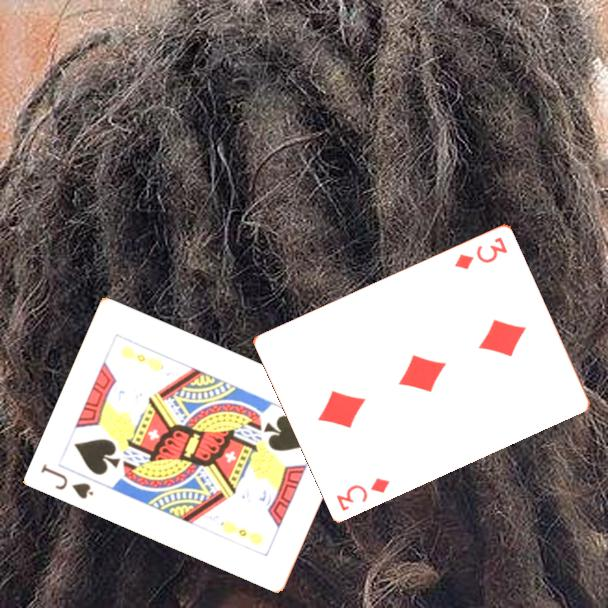d03: (451, 233, 511, 272), (333, 474, 393, 513)
s11: (38, 460, 97, 502)
